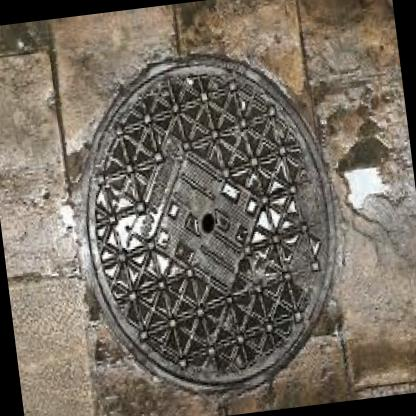manholes: (53, 29, 355, 416)
